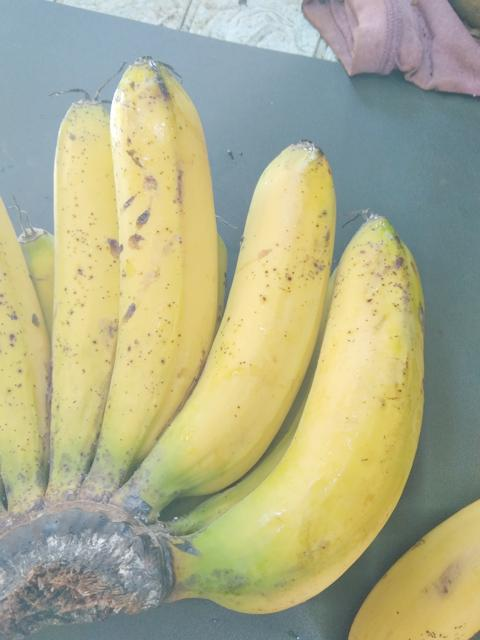ripe: (182, 216, 425, 622), (111, 140, 325, 545), (93, 45, 215, 488), (19, 81, 131, 498)
